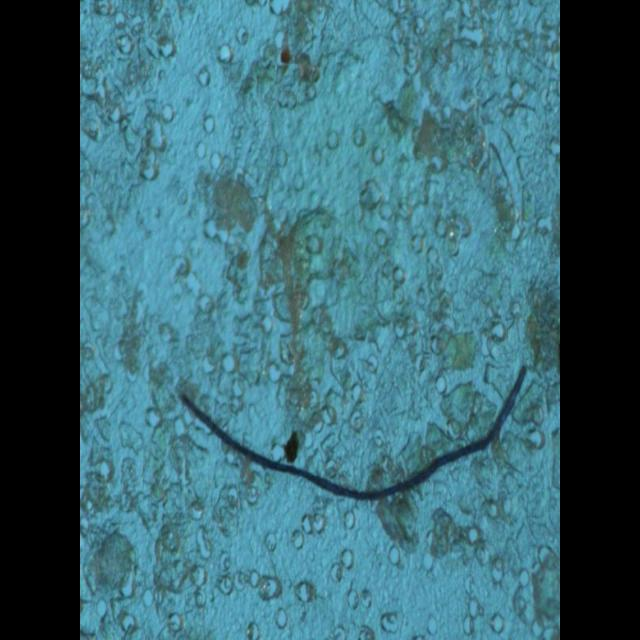Fibre: (178, 363, 528, 501)
